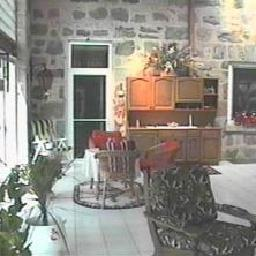Matera: (21, 154, 70, 253)
